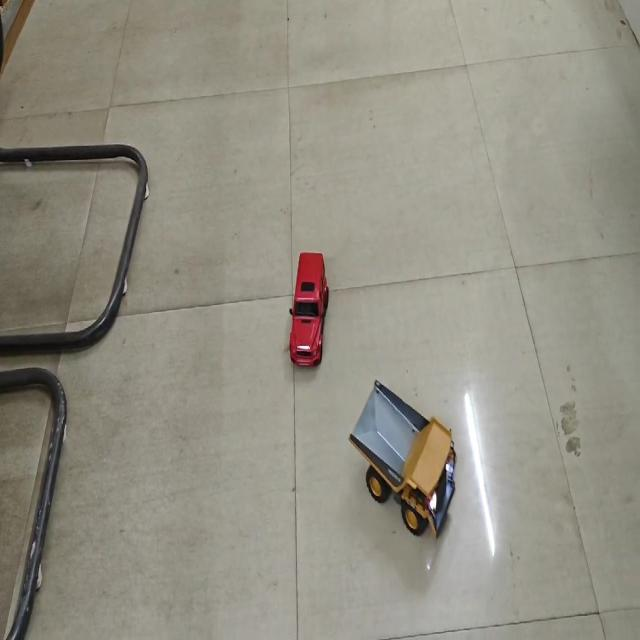dump_truck: (346, 372, 455, 540)
light_vehicle: (286, 246, 328, 362)
